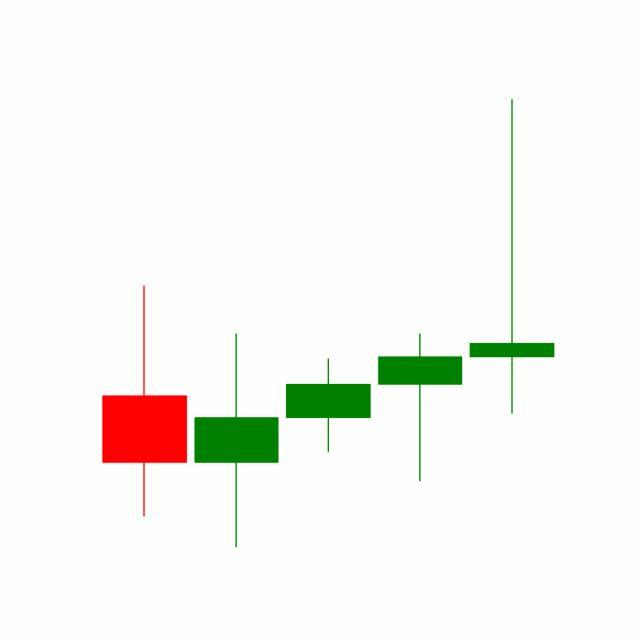Spinning Top: (466, 96, 559, 418)
